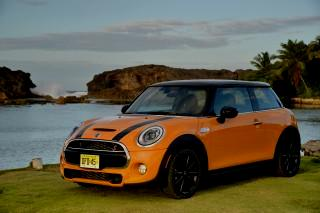mini: (91, 128, 108, 143)
